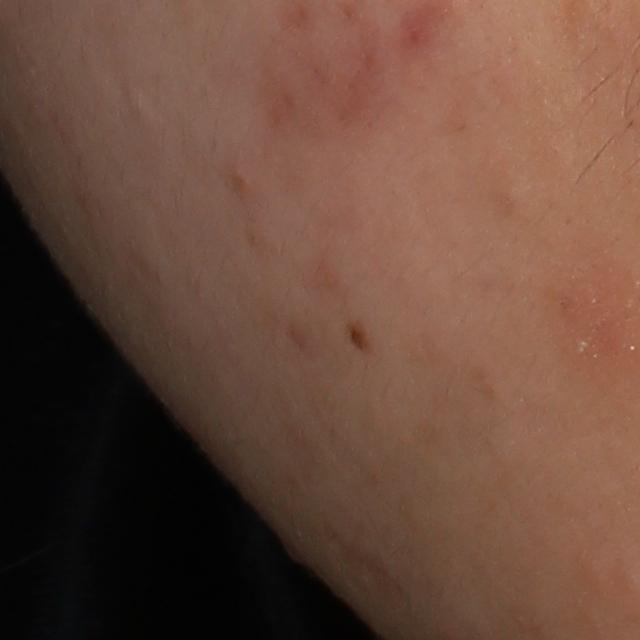comedo: (492, 181, 532, 216)
nevus: (350, 324, 365, 351)
papule: (229, 166, 252, 196)
